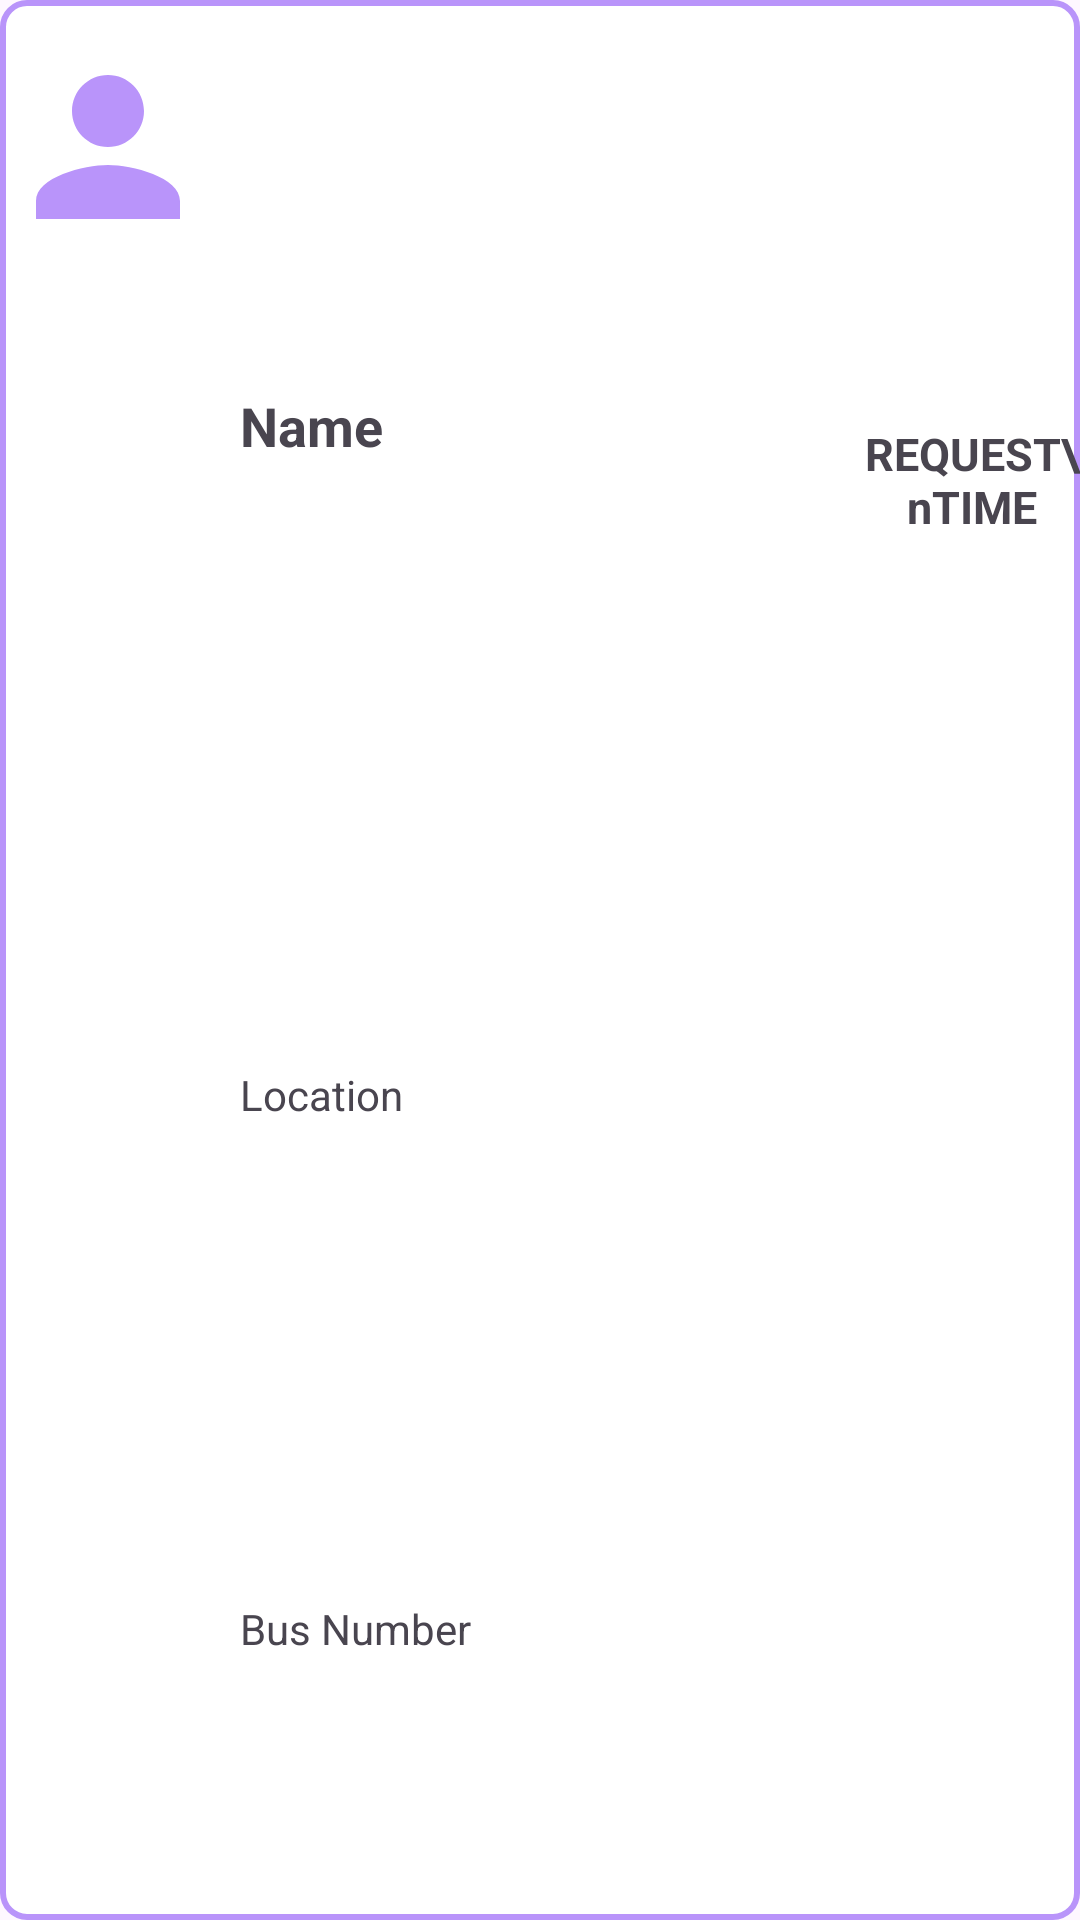

Where icons sit on this 1080×1920 app screen, as [x1, y1, x2, y2]:
person: [36, 75, 180, 219]
